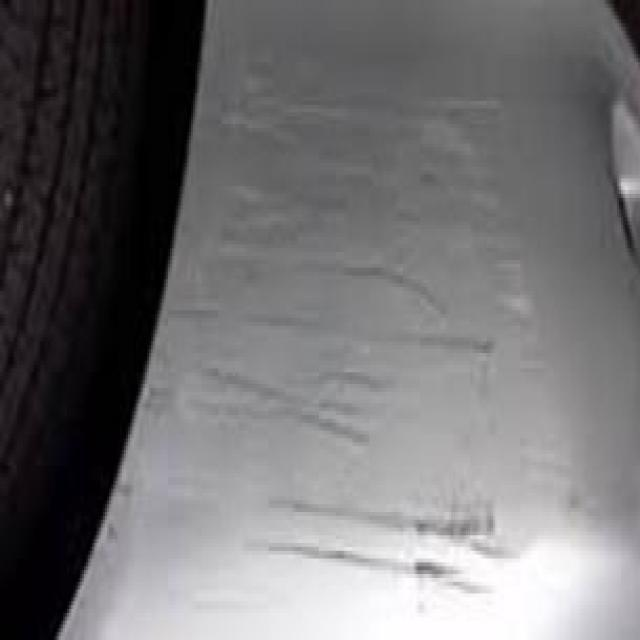scratch: (150, 50, 536, 582)
